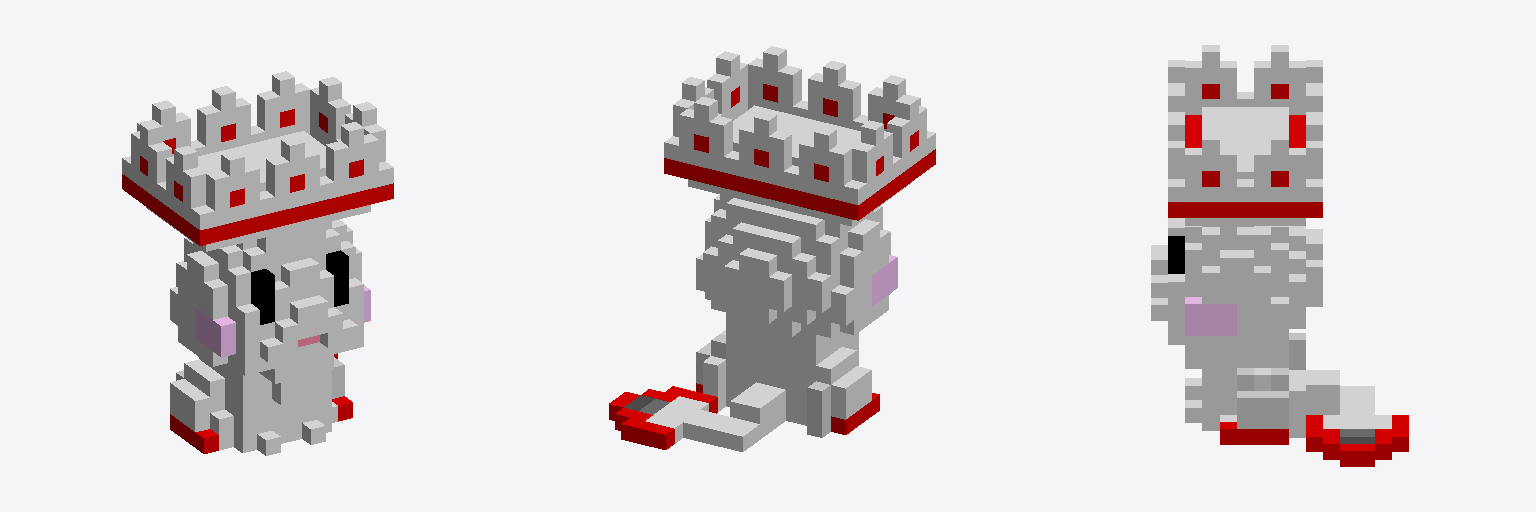
The picture shows the model from 3 angles: view 1: azimuth 30°, elevation 25°; view 2: azimuth 150°, elevation 25°; view 3: azimuth 270°, elevation 25°; orthographic projection.
Parts seen in each view (by area): view 1: object 1; view 2: object 1; view 3: object 1.
Boxes of the visible parts, x1=… form: object 1: x1=122, y1=71, x2=393, y2=455; object 1: x1=609, y1=46, x2=935, y2=451; object 1: x1=1151, y1=45, x2=1408, y2=466.
Bounding box in the file's own units: 1.5 × 2 × 1.5.
Materials: 1 (1 with a texture image).